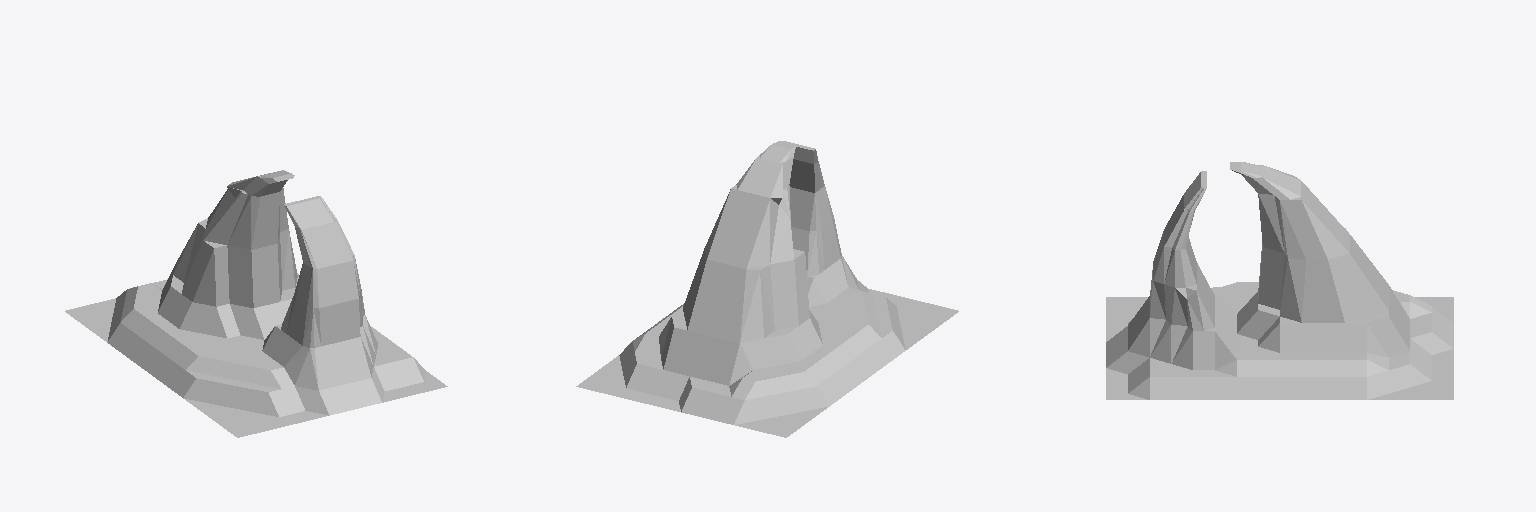
File: CrabRock.obj
3 renders of one model, left to right at view 1: azimuth 30°, elevation 25°; view 2: azimuth 150°, elevation 25°; view 3: azimuth 270°, elevation 25°, orthographic.
Visible parts, largest first — view 1: Plane; view 2: Plane; view 3: Plane.
Part boxes in pixels (bbox=[...]): Plane: bbox=[65, 170, 447, 437]; Plane: bbox=[576, 141, 958, 437]; Plane: bbox=[1106, 162, 1453, 399].
Size of the model in its own units: 7 by 5.9 by 10.